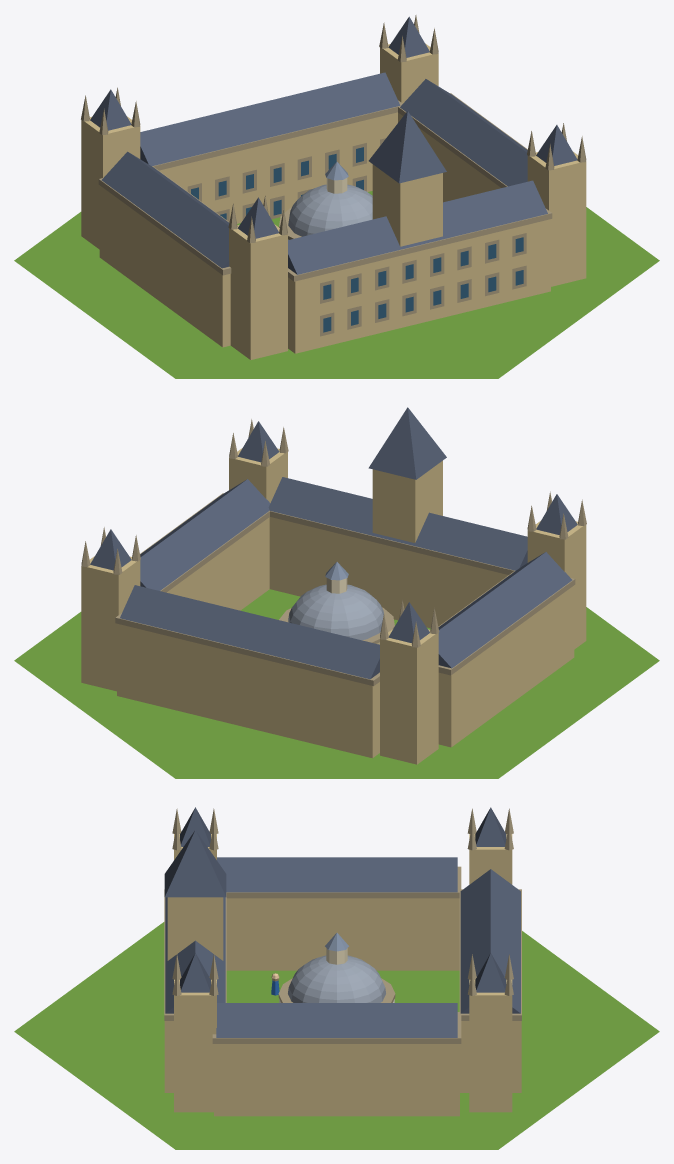
The model's file is wonder_oxford_university.fbx.
3 views of the same model, one above another, from view 1: azimuth 30°, elevation 25°; view 2: azimuth 150°, elevation 25°; view 3: azimuth 270°, elevation 25° (orthographic).
Parts seen in each view (by area): view 1: wonder_oxford_university; view 2: wonder_oxford_university; view 3: wonder_oxford_university.
Part boxes in pixels (x1,y1,x2,y2): wonder_oxford_university: [14, 15, 659, 378]; wonder_oxford_university: [14, 407, 659, 778]; wonder_oxford_university: [14, 807, 659, 1149].
Bounding box in the file's own units: 182 × 72.4 × 210.
